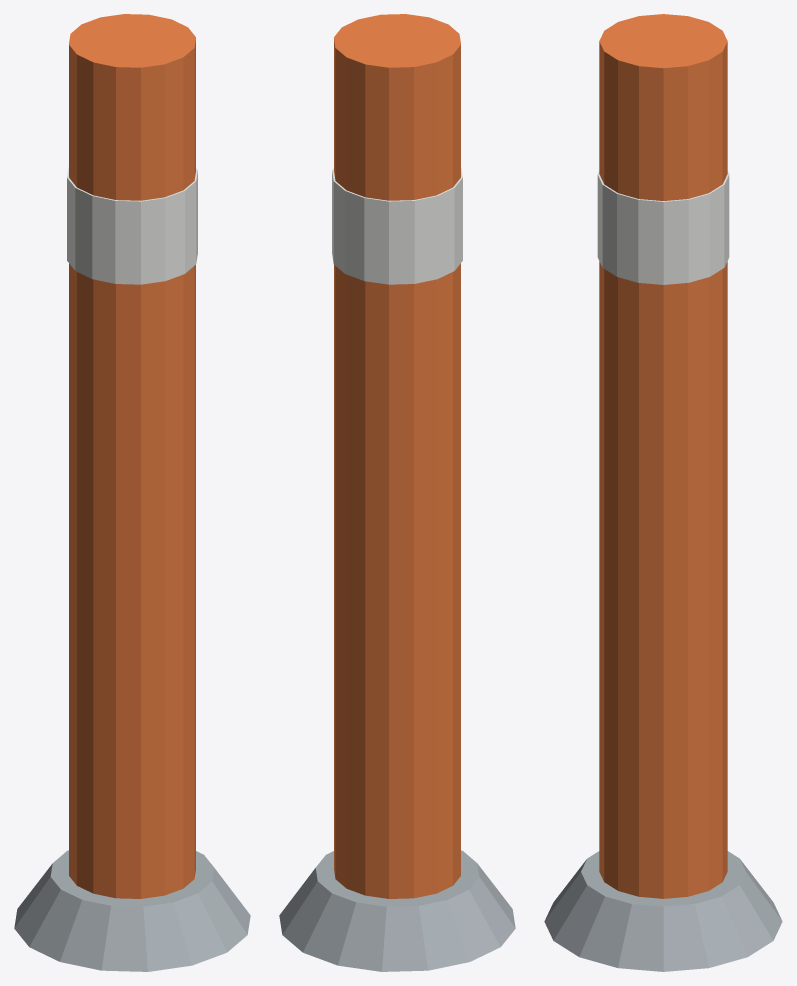
The model's file is long-haul-trucking-and-truck-stop-pump-bollard-7a381e0a__14001.glb.
3 renders of one model, left to right at view 1: azimuth 30°, elevation 25°; view 2: azimuth 150°, elevation 25°; view 3: azimuth 270°, elevation 25°, orthographic.
Visible parts, largest first — view 1: pump-bollard; view 2: pump-bollard; view 3: pump-bollard.
Part boxes in pixels (box(x1,y1,x2,y2)): pump-bollard: box(14, 14, 250, 971); pump-bollard: box(279, 14, 515, 971); pump-bollard: box(544, 14, 782, 971).
Bounding box in the file's own units: 0.26 × 1.06 × 0.26.
